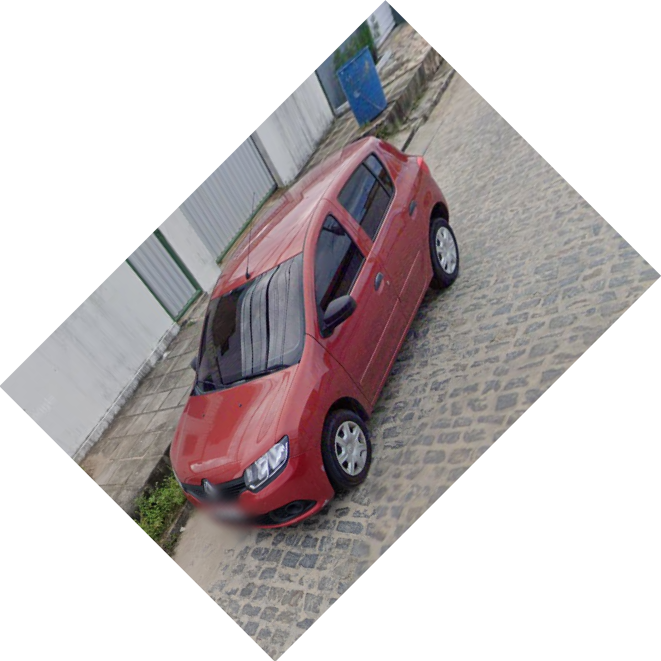car: (156, 129, 465, 539)
